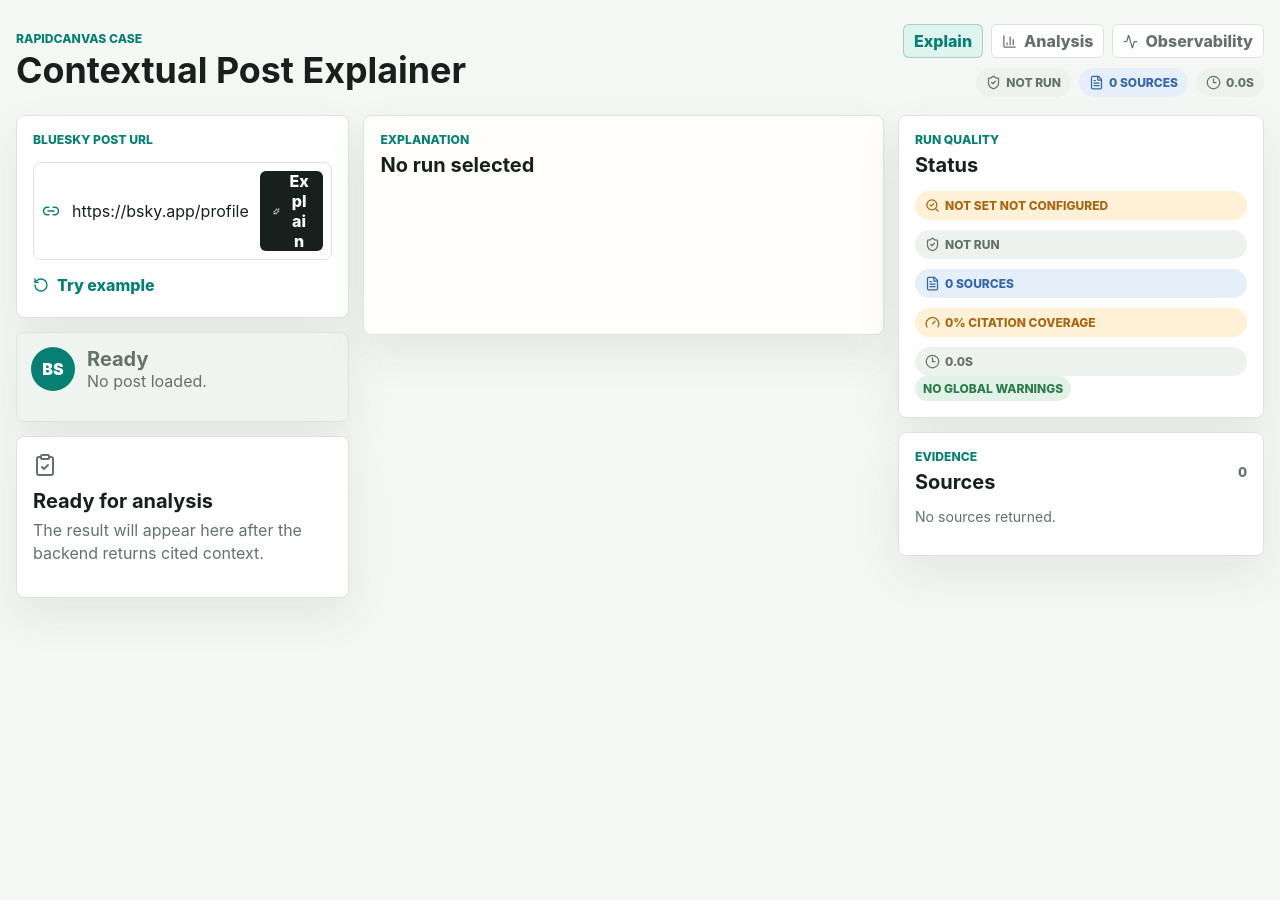
Test: ExplainerPage › renders a specific configuration error from the backend
Click the button "Explain" below "Bluesky post URL": (292, 211) x1=260 y1=171 x2=324 y2=251
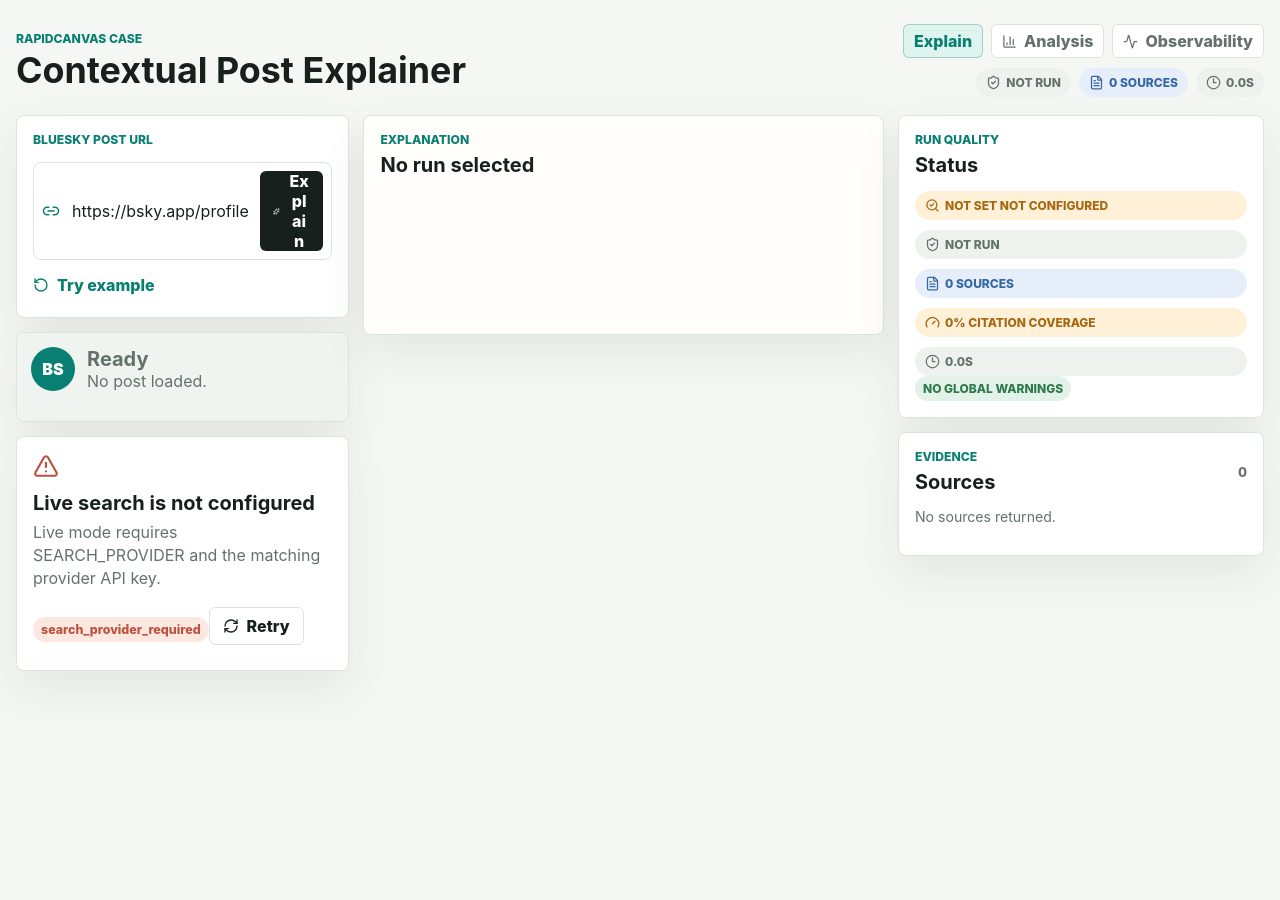
Now the heading "Live search is not configured" is shown, box x1=33 y1=491 x2=332 y2=515
Now the text "search_provider_required" is shown, box x1=33 y1=617 x2=209 y2=642
